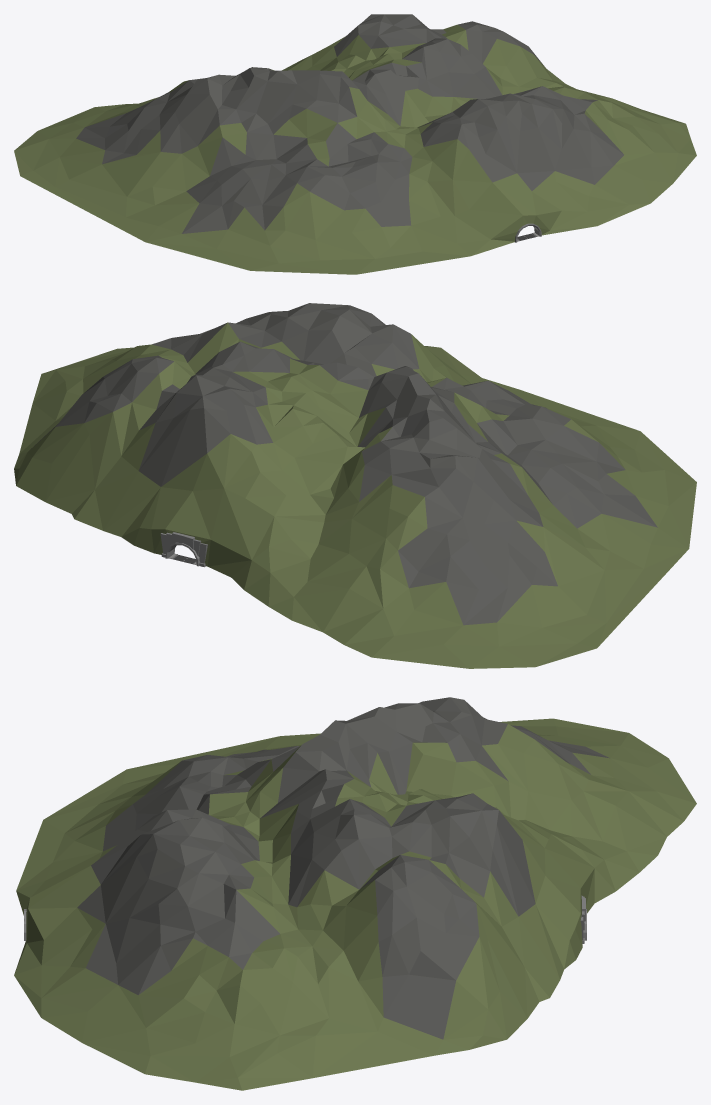
File: SM_Envr_Nature_Mountain_Tunnel.fbx
The picture shows the model from 3 angles, top to bottom: view 1: azimuth 30°, elevation 25°; view 2: azimuth 150°, elevation 25°; view 3: azimuth 270°, elevation 25°; orthographic projection. The views are drawn at different scales.
Visible parts, largest first — view 1: SM_Envr_Nature_Mountain_Tunnel; view 2: SM_Envr_Nature_Mountain_Tunnel; view 3: SM_Envr_Nature_Mountain_Tunnel.
Boxes of the visible parts, x1,y1,x2,y2 form: SM_Envr_Nature_Mountain_Tunnel: (14, 14, 696, 274); SM_Envr_Nature_Mountain_Tunnel: (14, 303, 696, 668); SM_Envr_Nature_Mountain_Tunnel: (14, 697, 696, 1090).
Bounding box in the file's own units: 33002 × 6089 × 25592.
